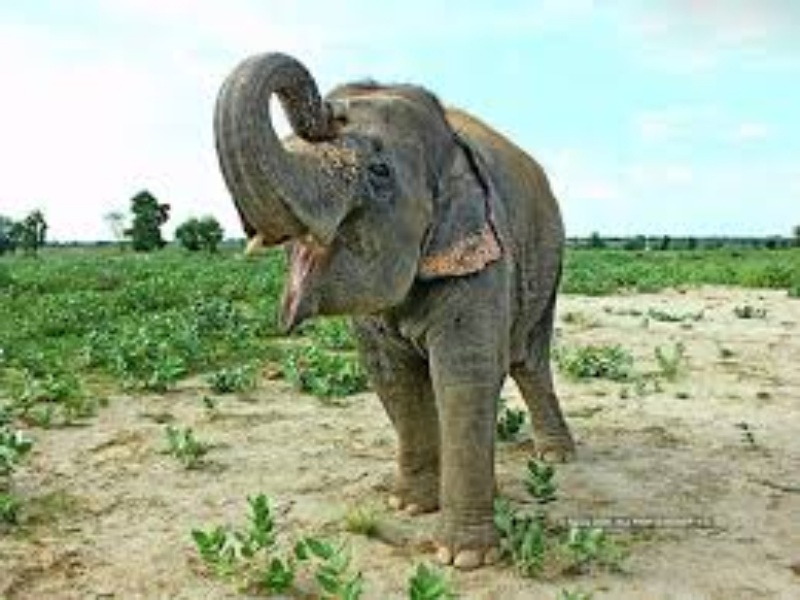elephant: (176, 15, 643, 574)
